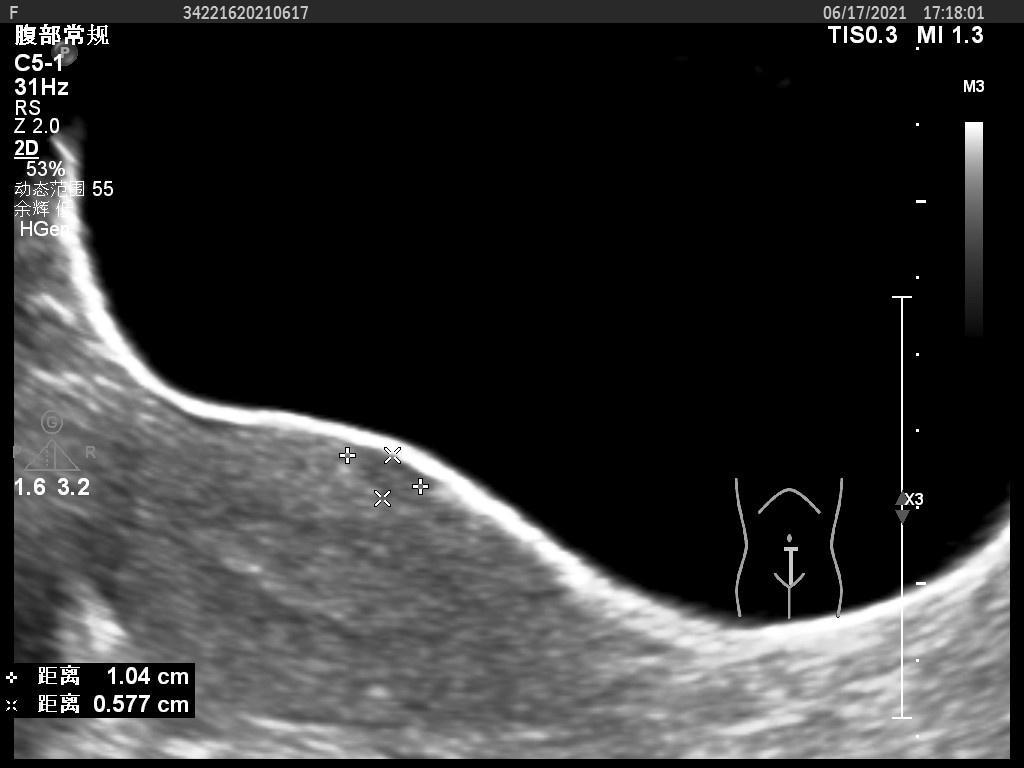肌瘤: (348, 453, 421, 497)
